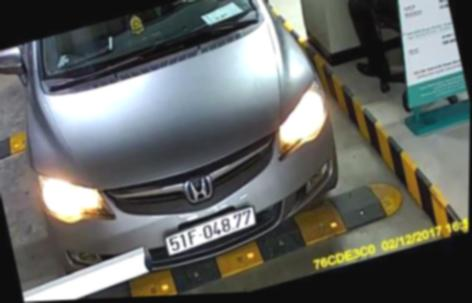License_Plate: (155, 203, 268, 260)
